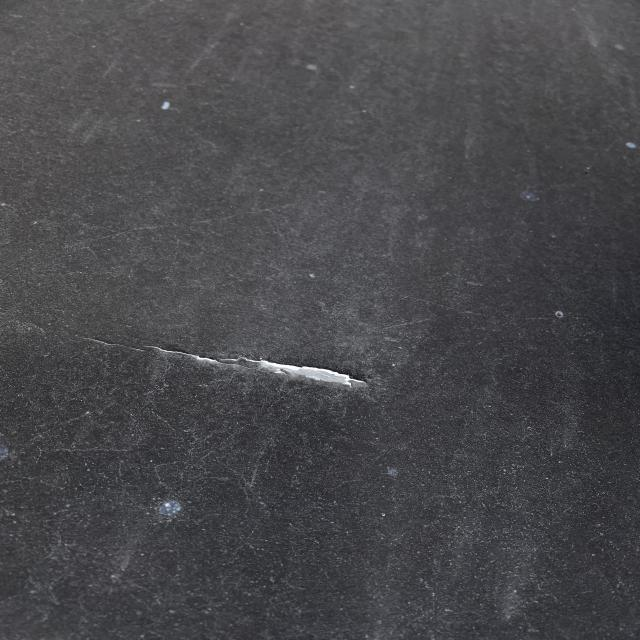crack: (86, 331, 379, 399)
